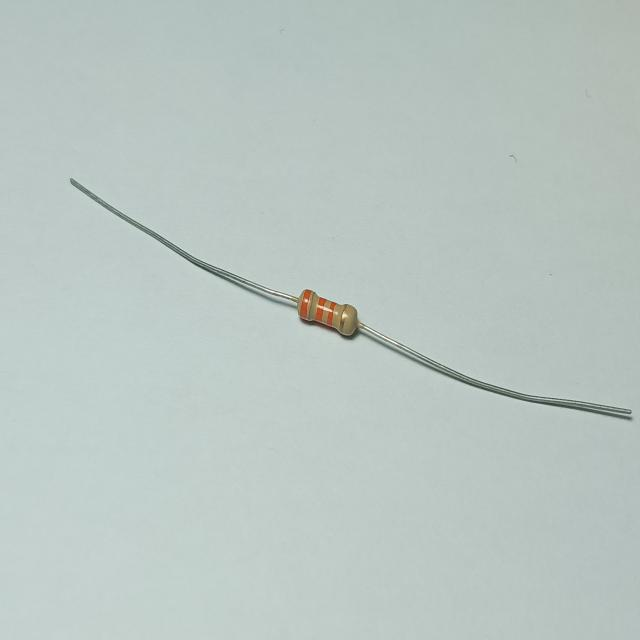33k ohms: (290, 274, 365, 355)
